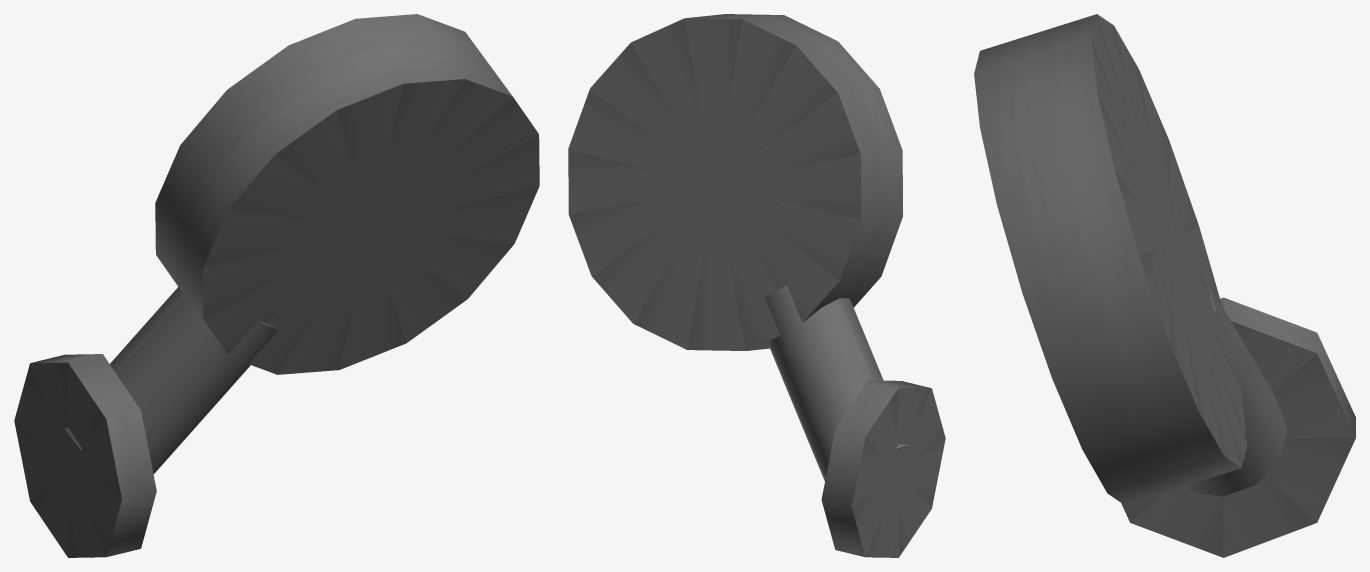
Rendered from mastarmcurve_10x2_c1_west.obj.
3 views of the same model, side by side, from view 1: azimuth 30°, elevation 25°; view 2: azimuth 150°, elevation 25°; view 3: azimuth 270°, elevation 25° (orthographic). The views are drawn at different scales.
Parts seen in each view (by area): view 1: mastarm_10x2_c1_west; view 2: mastarm_10x2_c1_west; view 3: mastarm_10x2_c1_west.
Part boxes in pixels (x1=…): mastarm_10x2_c1_west: x1=14, y1=14, x2=539, y2=557; mastarm_10x2_c1_west: x1=568, y1=14, x2=945, y2=557; mastarm_10x2_c1_west: x1=974, y1=14, x2=1355, y2=557.
Size of the model in its own units: 0.8647 by 1.07 by 0.5776.
